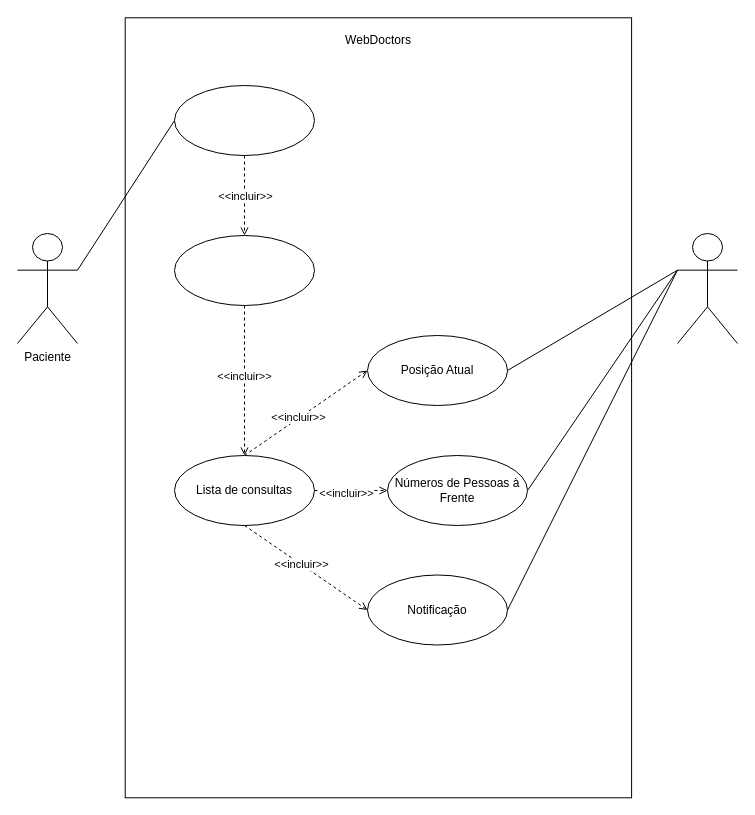
Some shapes in this 755 by 815 pixel diagram are drawn without their labels. The shapes that lost their labels are listed below. From the top down, each one's centre as x and y in pixels, then its label:
point (244, 120): Consultas
point (244, 270): Ver consultas
point (707, 288): Sistema
